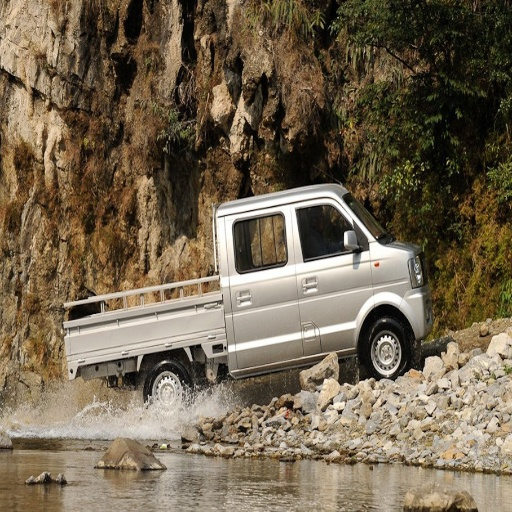trunk: (151, 298, 222, 350)
